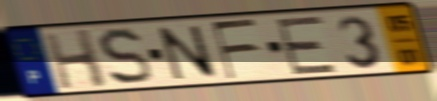3: (336, 13, 382, 70)
E: (273, 13, 340, 77)
F: (209, 17, 261, 82)
H: (41, 27, 111, 91)
N: (154, 24, 221, 83)
S: (95, 25, 155, 87)
